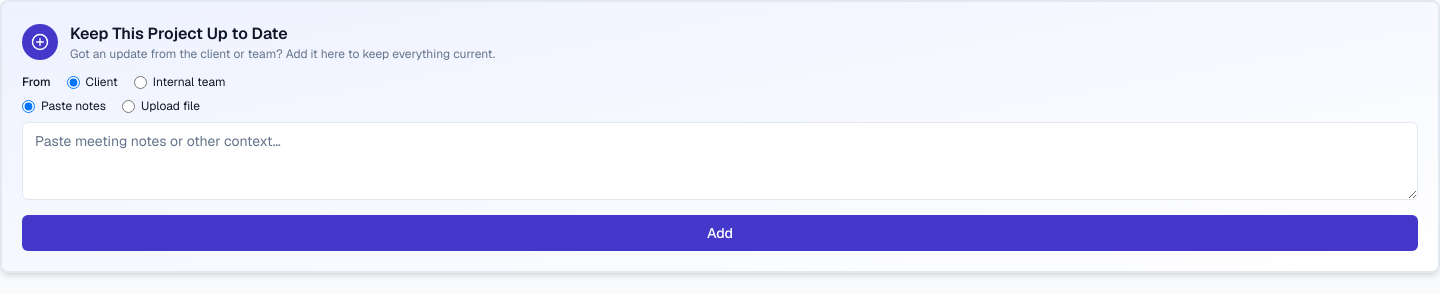
KnowledgeUpload › defaults to paste mode and switches to a file input in upload mode
Expected: the text box with placeholder "Paste meeting notes or other context…" is shown, top-left (22, 122), bottom-right (1418, 200)
Click the radio button labelled "Upload file". click: click(128, 106)
box: top-left (122, 100), bottom-right (135, 112)
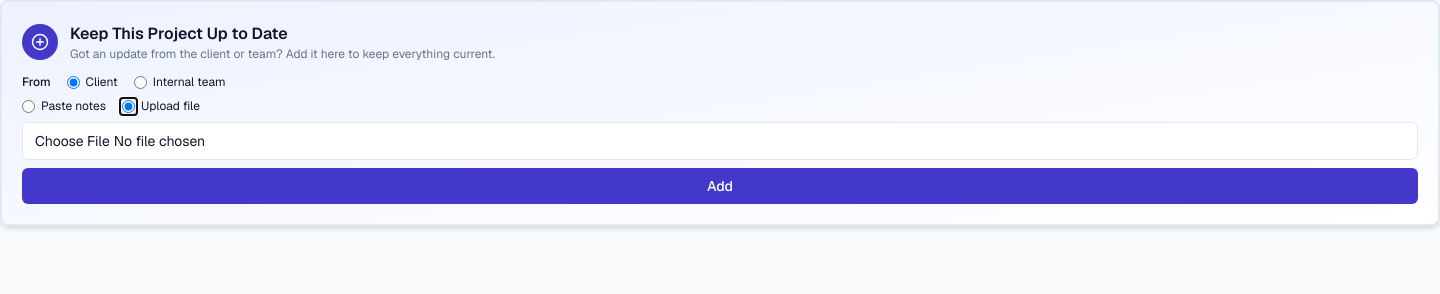
Expected: the field with placeholder "Paste meeting notes or other context" is not shown
Now the file field named "File" is shown, box top-left (22, 122), bottom-right (1418, 160)
